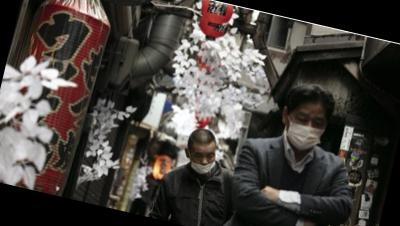mask_weared_incorrect: (188, 145, 220, 179)
with_mask: (284, 107, 330, 155)
